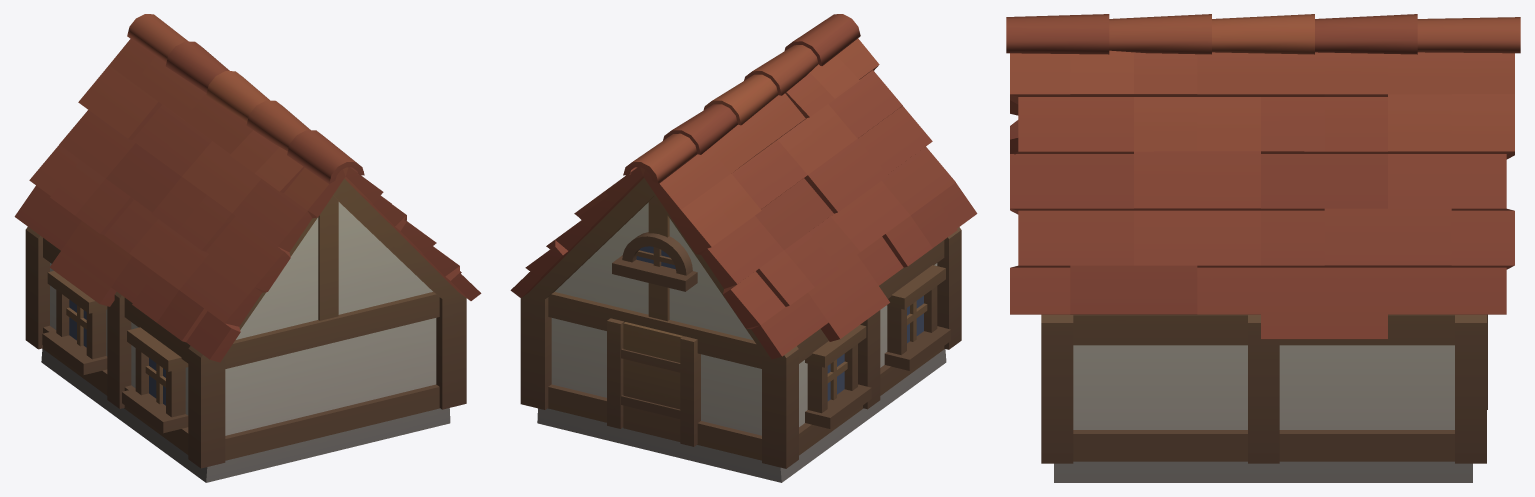
The model's file is house5.fbx.
3 views of the same model, side by side, from view 1: azimuth 30°, elevation 25°; view 2: azimuth 150°, elevation 25°; view 3: azimuth 270°, elevation 25° (orthographic). The views are drawn at different scales.
Parts seen in each view (by area): view 1: house5; view 2: house5; view 3: house5.
Part boxes in pixels (x1,y1,x2,y2): house5: [14, 14, 481, 482]; house5: [510, 14, 977, 482]; house5: [1006, 14, 1520, 482].
Size of the model in its own units: 246 by 245 by 292.
